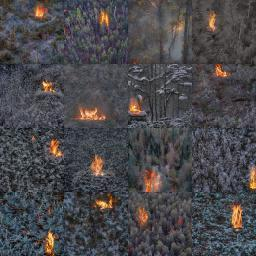Small fire: (66, 99, 113, 126), (122, 86, 148, 124), (204, 59, 240, 86), (90, 2, 117, 37), (36, 226, 65, 256), (229, 200, 253, 236), (87, 149, 112, 181), (34, 72, 61, 101), (43, 136, 72, 163), (201, 9, 225, 41), (132, 197, 154, 231), (89, 190, 120, 214), (26, 2, 57, 24), (242, 148, 256, 194), (139, 166, 163, 192)
